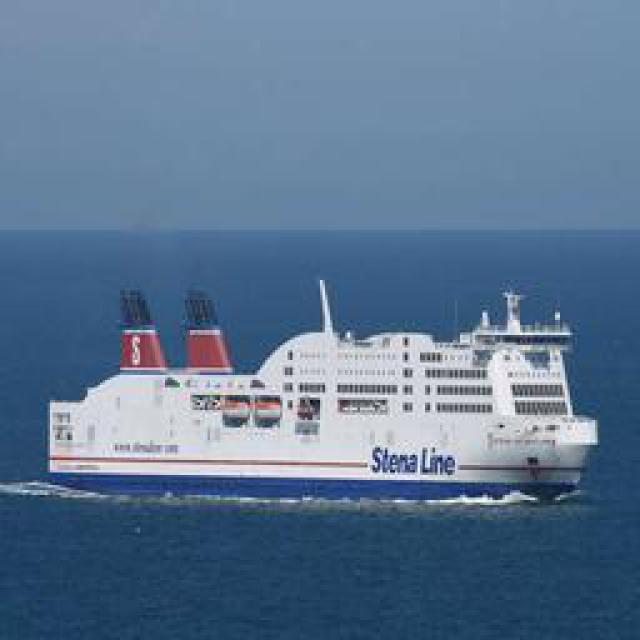Ship: (37, 272, 605, 502)
